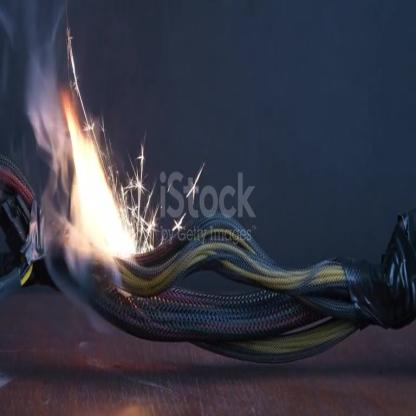fire: (60, 104, 145, 250)
smoke: (0, 0, 116, 340)
